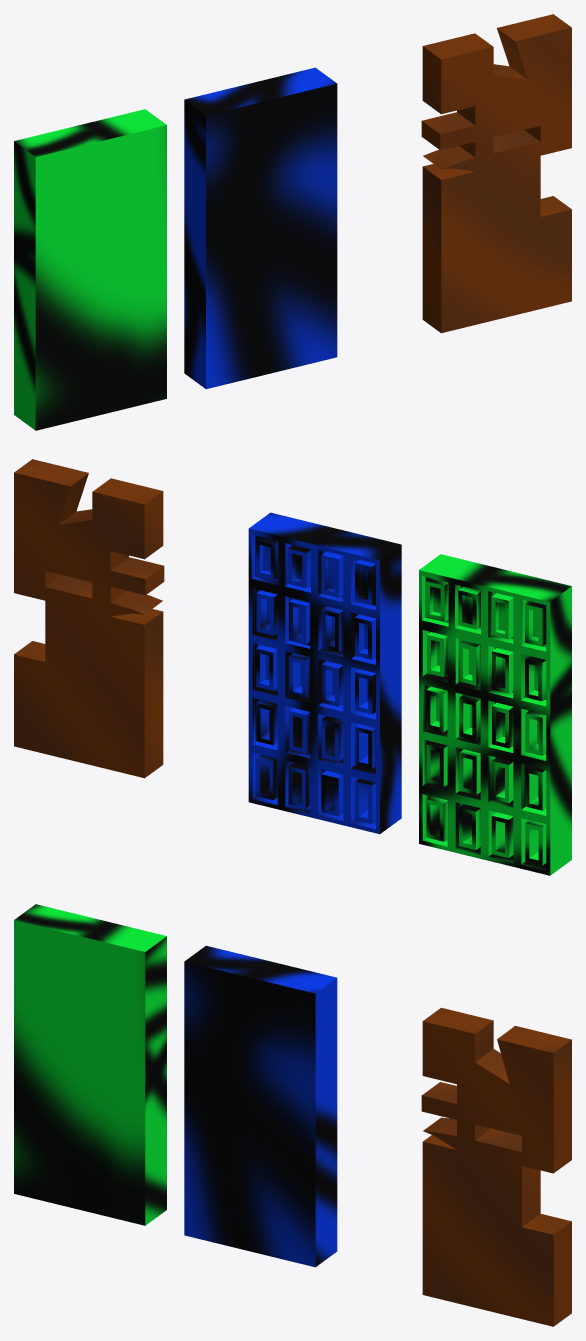
File: Doors.fbx
3 renders of one model, top to bottom at view 1: azimuth 30°, elevation 25°; view 2: azimuth 150°, elevation 25°; view 3: azimuth 330°, elevation 25°, orthographic.
Parts seen in each view (by area): view 1: pCube5, pCube6, pCube2; view 2: pCube5, pCube6, pCube2; view 3: pCube5, pCube6, pCube2.
Part boxes in pixels (<box>): pCube5: <box>184,67,337,389</box>; pCube6: <box>14,109,166,430</box>; pCube2: <box>421,14,571,333</box>; pCube5: <box>248,512,401,834</box>; pCube6: <box>419,554,571,875</box>; pCube2: <box>14,459,164,778</box>; pCube5: <box>184,945,337,1267</box>; pCube6: <box>14,904,166,1225</box>; pCube2: <box>421,1007,571,1326</box>.
Bounding box in the file's own units: 2.06 × 1.01 × 0.1493.
